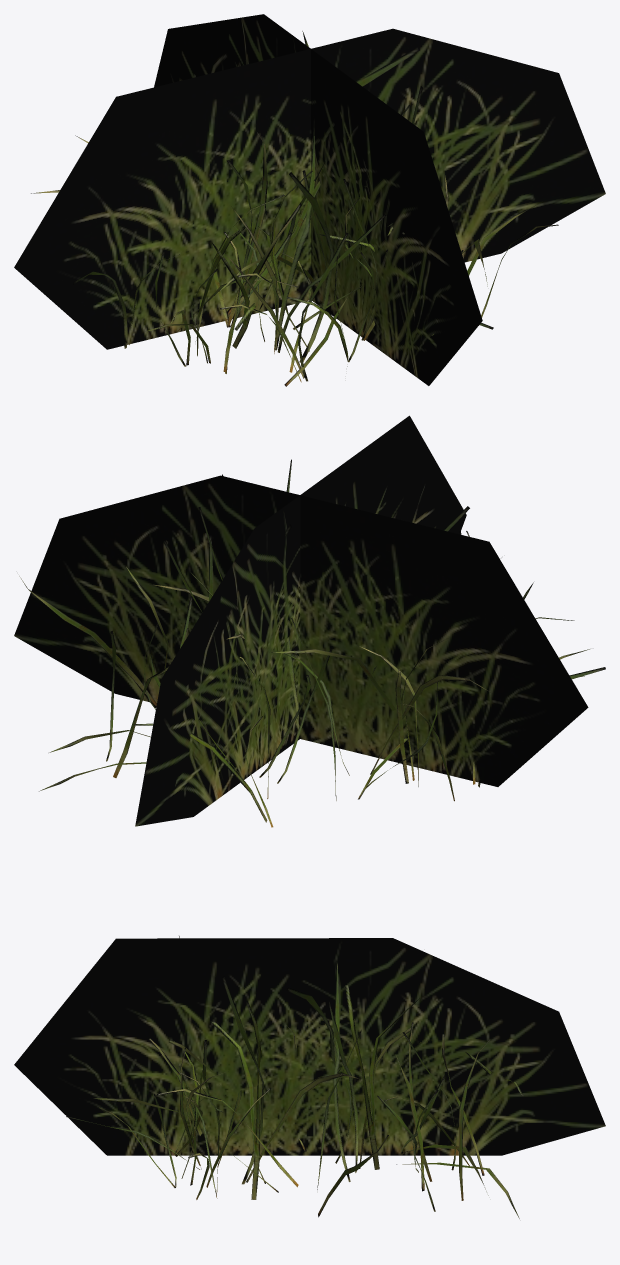
File: grass_LOD03.glb
3 renders of one model, top to bottom at view 1: azimuth 30°, elevation 25°; view 2: azimuth 150°, elevation 25°; view 3: azimuth 270°, elevation 25°, orthographic. The views are drawn at different scales.
Parts seen in each view (by area): view 1: grass_medium_01_geonodes_large_a_LOD2; view 2: grass_medium_01_geonodes_large_a_LOD2; view 3: grass_medium_01_geonodes_large_a_LOD2.
Boxes of the visible parts, x1,y1,x2,y2 form: grass_medium_01_geonodes_large_a_LOD2: (14,14,605,386); grass_medium_01_geonodes_large_a_LOD2: (14,415,605,827); grass_medium_01_geonodes_large_a_LOD2: (14,936,605,1218).
Size of the model in its own units: 0.327 by 0.1353 by 0.327.
1 material, 1 textured.
